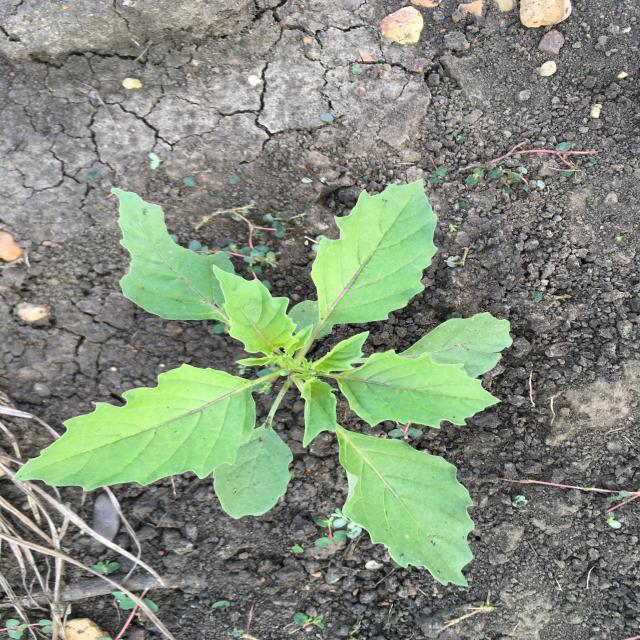CutleafGroundcherry: (9, 175, 516, 589)
SpottedSpurge: (164, 203, 301, 292), (425, 134, 602, 192), (312, 510, 363, 552), (2, 617, 65, 639)
